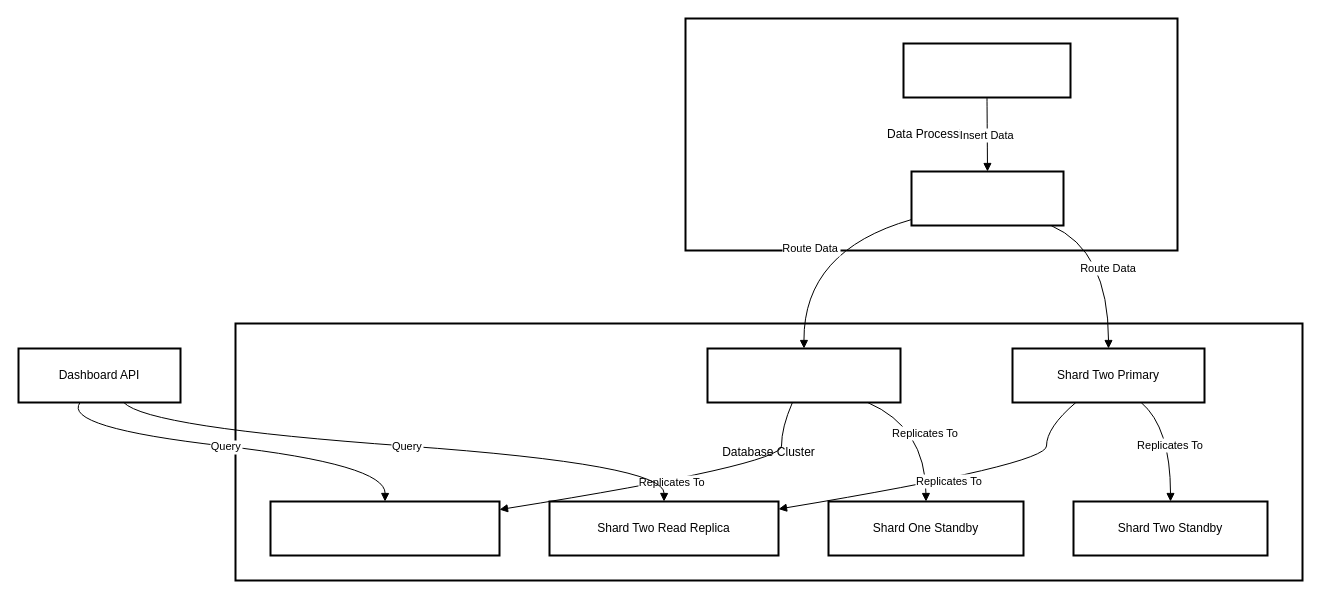
Some shapes in this 1320 by 598 pixel diagram are drawn without their labels. The centre of each missing label's shape, as x and y in pixels:
Shard One Primary: the point at 803,375
Shard One Read Replica: the point at 384,528
Shard Router: the point at 987,198
Worker Service: the point at 986,70
